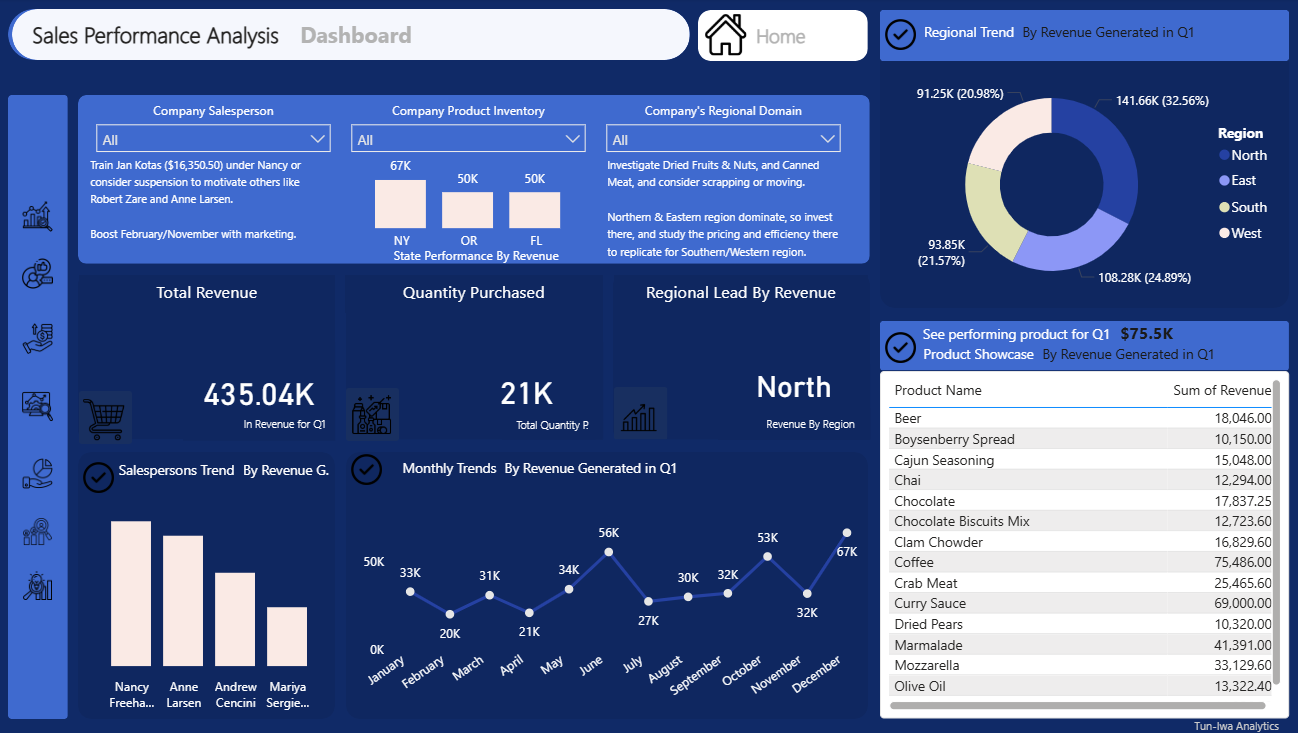

The dashboard page shown, as its layout file describes it:
{"tool":"powerbi","page":{"name":"DASHBOARD","canvas":[1280,720],"ordinal":0},"visuals":[{"type":"shape","box":[24.3,10.7,663.3,49.6],"z":0},{"type":"shape","box":[28.2,10.7,659.5,49.6],"z":1000},{"type":"shape","box":[24.2,94.3,58.4,606.9],"z":2000},{"type":"shape","box":[92.4,269.4,250,160],"z":3000},{"type":"shape","box":[92.5,94.3,770.3,164.3],"z":4000},{"type":"shape","box":[872.5,11.7,397.8,289.8],"z":5000},{"type":"shape","box":[353.1,441.6,507.7,259.7],"z":6000},{"type":"shape","box":[872.6,314.2,397.7,386.9],"z":7000},{"type":"shape","box":[353.1,269.4,250,160.5],"z":8000},{"type":"shape","box":[612.8,269.4,250,160.5],"z":9000},{"type":"shape","box":[92.4,441.6,250,259.7],"z":10000},{"type":"card","fields":{"Values":["Sum(Data.Revenue)"]},"box":[194.5,334.6,147.8,96.3],"z":11000},{"type":"shape","box":[93.4,382.2,51.6,51.6],"z":12000},{"type":"textbox","box":[93.4,269.4,249,37],"z":13000},{"type":"textbox","box":[352.1,269.4,250.9,37],"z":14000},{"type":"shape","box":[353.1,379.3,51.6,51.6],"z":15000},{"type":"image","box":[353.1,380.3,49.6,49.6],"z":16000},{"type":"textbox","box":[614.1,269.3,246.9,36.8],"z":17000},{"type":"textbox","box":[244.1,398.8,98.2,30.2],"z":18000},{"type":"card","fields":{"Values":["Sum(Data.Quantity)"]},"box":[454.2,334.6,148.8,94.3],"z":19000},{"type":"textbox","box":[504.8,399.8,98.2,30.2],"z":20000},{"type":"textbox","box":[714.9,356,147.8,73.9],"z":21000},{"type":"shape","box":[614.1,378,52.1,51.2],"z":22000},{"type":"textbox","box":[747,398.8,115.7,30.2],"z":23000},{"type":"image","box":[33.2,311.5,40.4,39.5],"z":24000},{"type":"image","box":[33.2,551.2,40.4,40.4],"z":25000},{"type":"image","box":[33.2,442.6,40.4,40.4],"z":26000},{"type":"image","box":[33.2,377.1,40.4,40.4],"z":27000},{"type":"image","box":[33.2,247.8,40.4,40.4],"z":28000},{"type":"donutChart","fields":{"Y":["Sum(Data.Revenue)"],"Category":["Data.Region"]},"box":[872.5,61.3,397.8,240.2],"z":29000},{"type":"shape","box":[872.5,11.7,397.8,49.6],"z":30000},{"type":"textbox","box":[892.9,18.5,132.3,37],"z":31000},{"type":"textbox","box":[1005.7,18.5,237.3,37],"z":32000},{"type":"image","box":[872.5,15.6,39.9,39.9],"z":33000},{"type":"shape","box":[872.6,314.2,397.7,48.5],"z":34000},{"type":"lineChart","fields":{"Y":["Sum(Data.Revenue)"],"Category":["Data.Order Date.Variation.Date Hierarchy.Month"]},"box":[353.1,483.4,507.7,217.9],"z":35000},{"type":"image","box":[92.4,385.2,49.6,49.6],"z":36000},{"type":"shape","box":[695.4,11.7,165.3,49.6],"z":37000},{"type":"image","box":[697.4,10.7,49.6,49.6],"z":38000},{"type":"columnChart","fields":{"Category":["Data.Salesperson"],"Y":["Sum(Data.Revenue)"]},"box":[93.4,474,248.7,227.1],"z":39000},{"type":"textbox","box":[392.9,442.6,121.6,32.1],"z":40000},{"type":"image","box":[353.1,438.7,39.9,39.9],"z":41000},{"type":"textbox","box":[478.5,442.6,225.7,37],"z":42000},{"type":"image","box":[92.4,446.4,39.9,39.9],"z":43000},{"type":"textbox","box":[117.7,444.5,141,31.1],"z":44000},{"type":"textbox","box":[244.1,444.5,98.2,37],"z":45000},{"type":"tableEx","fields":{"Values":["Data.Product Name","Sum(Data.Revenue)"]},"box":[872.5,362.8,397.8,338.5],"z":46000},{"type":"image","box":[872.5,320,39.9,39.9],"z":47000},{"type":"textbox","box":[902.6,331.7,131.3,37],"z":48000},{"type":"textbox","box":[1025.2,331.7,237.3,37],"z":49000},{"type":"textbox","box":[899.7,312.2,211.1,37],"z":50000},{"type":"textbox","box":[1101,309.3,179,37],"z":51000},{"type":"image","box":[612.8,383.2,50,50],"z":52000},{"type":"textbox","box":[43.1,15.3,282.8,39.5],"z":53000},{"type":"textbox","box":[303.4,15.3,303.4,39.5],"z":54000},{"type":"textbox","box":[747,18.5,86.6,38.9],"z":55000},{"type":"slicer","fields":{"Values":["Data.Salesperson"]},"box":[100.2,112.8,248,42.8],"z":56000},{"type":"slicer","fields":{"Values":["Data.Product Name"]},"box":[348.2,112.8,248,42.8],"z":57000},{"type":"slicer","fields":{"Values":["Data.Region"]},"box":[596.2,112.8,248,42.8],"z":58000},{"type":"image","box":[33.2,499.2,40.4,40.4],"z":59000},{"type":"image","box":[33.2,192.1,40.4,40.4],"z":60000},{"type":"textbox","box":[100.2,94.3,248,33.1],"z":61000},{"type":"textbox","box":[348.2,94.3,248,33.1],"z":62000},{"type":"textbox","box":[596.2,94.3,248,33.1],"z":63000},{"type":"columnChart","fields":{"Category":["Data.State"],"Y":["Sum(Data.Revenue)"]},"box":[350.2,143,245.1,110.9],"z":64000},{"type":"textbox","box":[356.4,235.2,247.8,33.2],"z":65000},{"type":"textbox","box":[99.7,147.2,241.5,102.3],"z":66000},{"type":"textbox","box":[602.4,147.2,241.5,121.2],"z":67000},{"type":"textbox","box":[1173,692.5,107,27.2],"z":68000}]}

Visuals, with their boxes in screenshot pixels (x1, y1, x2, y2), scaled from the page's 1280x720 canvas onto the 1298x733 screenshot:
shape: locate(25, 11, 697, 61)
shape: locate(29, 11, 697, 61)
shape: locate(25, 96, 84, 714)
shape: locate(94, 274, 347, 437)
shape: locate(94, 96, 875, 263)
shape: locate(885, 12, 1288, 307)
shape: locate(358, 450, 873, 714)
shape: locate(885, 320, 1288, 714)
shape: locate(358, 274, 612, 438)
shape: locate(621, 274, 875, 438)
shape: locate(94, 450, 347, 714)
card - Sum(Data.Revenue): locate(197, 341, 347, 439)
shape: locate(95, 389, 147, 442)
textbox: locate(95, 274, 347, 312)
textbox: locate(357, 274, 611, 312)
shape: locate(358, 386, 410, 439)
image: locate(358, 387, 408, 438)
textbox: locate(623, 274, 873, 312)
textbox: locate(248, 406, 347, 437)
card - Sum(Data.Quantity): locate(461, 341, 611, 437)
textbox: locate(512, 407, 611, 438)
textbox: locate(725, 362, 875, 438)
shape: locate(623, 385, 676, 437)
textbox: locate(758, 406, 875, 437)
image: locate(34, 317, 75, 357)
image: locate(34, 561, 75, 602)
image: locate(34, 451, 75, 492)
image: locate(34, 384, 75, 425)
image: locate(34, 252, 75, 293)
donutChart - Sum(Data.Revenue) x Data.Region: locate(885, 62, 1288, 307)
shape: locate(885, 12, 1288, 62)
textbox: locate(905, 19, 1040, 57)
textbox: locate(1020, 19, 1260, 57)
image: locate(885, 16, 925, 57)
shape: locate(885, 320, 1288, 369)
lineChart - Sum(Data.Revenue) x Data.Order Date.Variation.Date Hierarchy.Month: locate(358, 492, 873, 714)
image: locate(94, 392, 144, 443)
shape: locate(705, 12, 873, 62)
image: locate(707, 11, 758, 61)
columnChart - Data.Salesperson x Sum(Data.Revenue): locate(95, 483, 347, 714)
textbox: locate(398, 451, 522, 483)
image: locate(358, 447, 399, 487)
textbox: locate(485, 451, 714, 488)
image: locate(94, 454, 134, 495)
textbox: locate(119, 453, 262, 484)
textbox: locate(248, 453, 347, 490)
tableEx - Data.Product Name x Sum(Data.Revenue): locate(885, 369, 1288, 714)
image: locate(885, 326, 925, 366)
textbox: locate(915, 338, 1048, 375)
textbox: locate(1040, 338, 1280, 375)
textbox: locate(912, 318, 1126, 356)
textbox: locate(1116, 315, 1297, 353)
image: locate(621, 390, 672, 441)
textbox: locate(44, 16, 330, 56)
textbox: locate(308, 16, 615, 56)
textbox: locate(758, 19, 845, 58)
slicer - Data.Salesperson: locate(102, 115, 353, 158)
slicer - Data.Product Name: locate(353, 115, 605, 158)
slicer - Data.Region: locate(605, 115, 856, 158)
image: locate(34, 508, 75, 549)
image: locate(34, 196, 75, 237)
textbox: locate(102, 96, 353, 130)
textbox: locate(353, 96, 605, 130)
textbox: locate(605, 96, 856, 130)
columnChart - Data.State x Sum(Data.Revenue): locate(355, 146, 604, 258)
textbox: locate(361, 239, 613, 273)
textbox: locate(101, 150, 346, 254)
textbox: locate(611, 150, 856, 273)
textbox: locate(1189, 705, 1297, 732)
